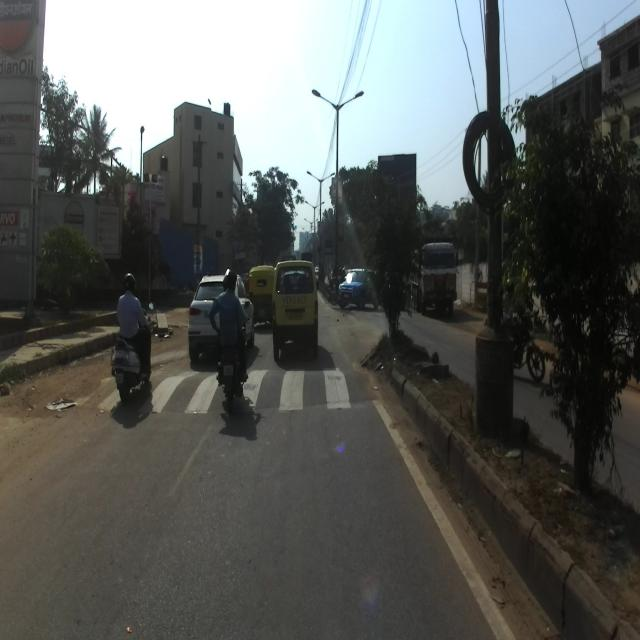car: (187, 273, 255, 362), (271, 258, 318, 360), (336, 264, 378, 310)
motorcycle: (216, 300, 250, 416), (499, 313, 547, 386)
scooter: (110, 300, 154, 408)
